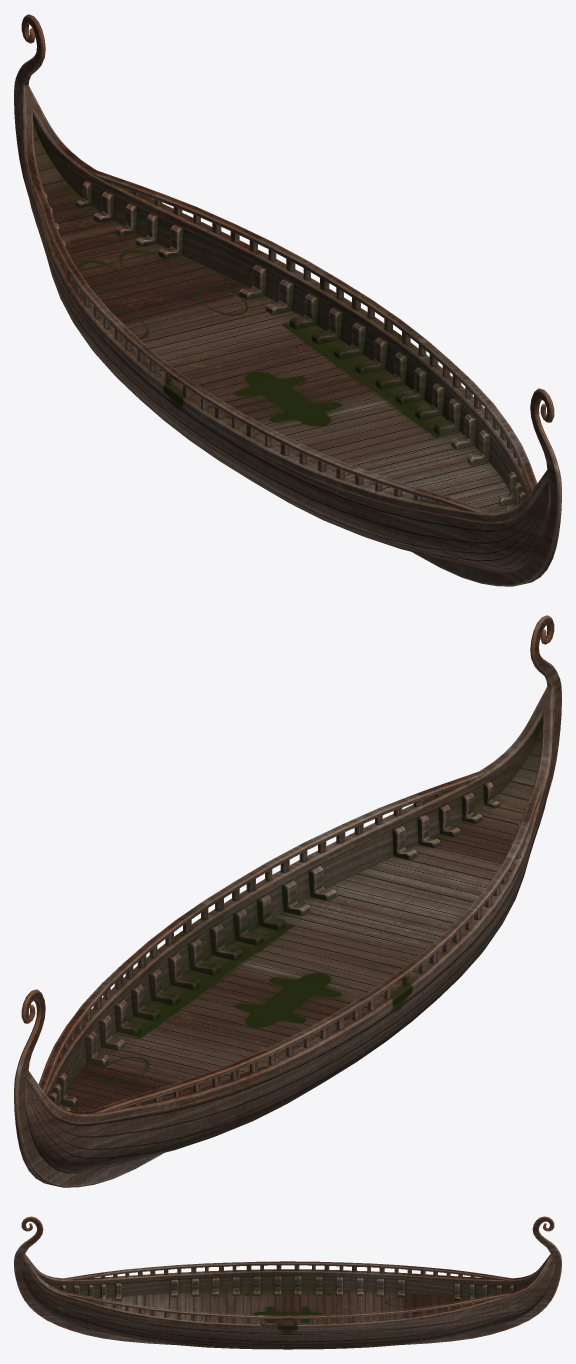
File: boat.glb
3 views of the same model, one above another, from view 1: azimuth 30°, elevation 25°; view 2: azimuth 150°, elevation 25°; view 3: azimuth 270°, elevation 25° (orthographic). The views are drawn at different scales.
Parts seen in each view (by area): view 1: Object_2; view 2: Object_2; view 3: Object_2.
Part boxes in pixels (left/top/right/bottom): Object_2: left=14, top=14, right=561, bottom=586; Object_2: left=14, top=615, right=561, bottom=1187; Object_2: left=14, top=1216, right=561, bottom=1349.
Bounding box in the file's own units: 1.02 × 1.07 × 4.17.
Materials: 1 (1 with a texture image).
